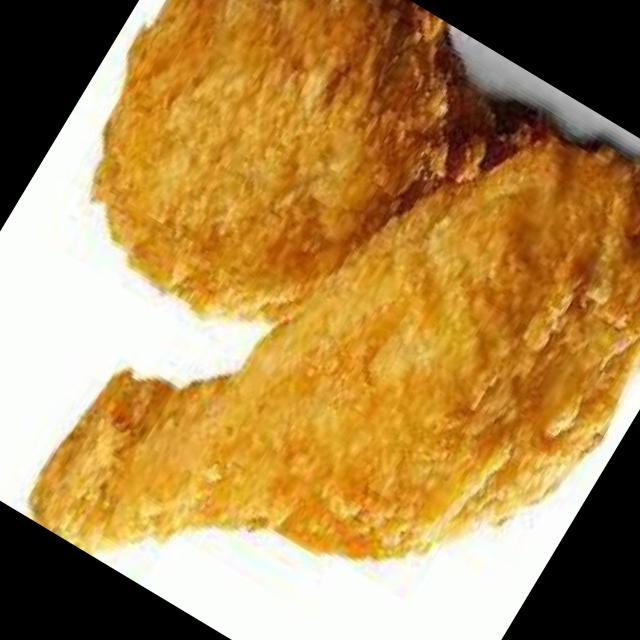Fried Chicken: (26, 102, 640, 561), (86, 0, 520, 323)
